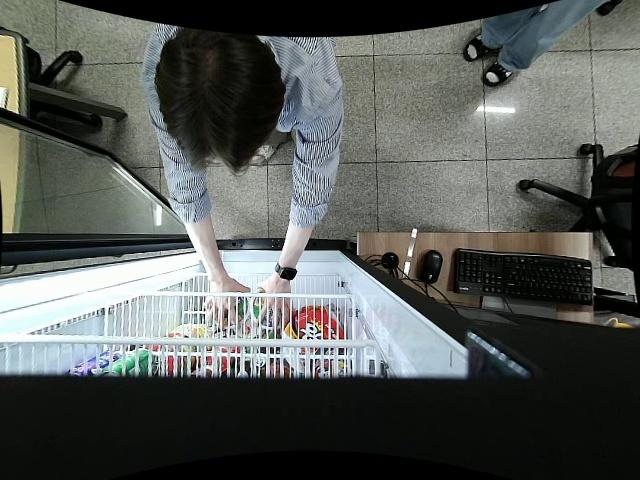00_hand: (203, 276, 250, 329), (255, 282, 292, 329)
09_yukGaeJang: (203, 293, 250, 329), (251, 290, 286, 334)
